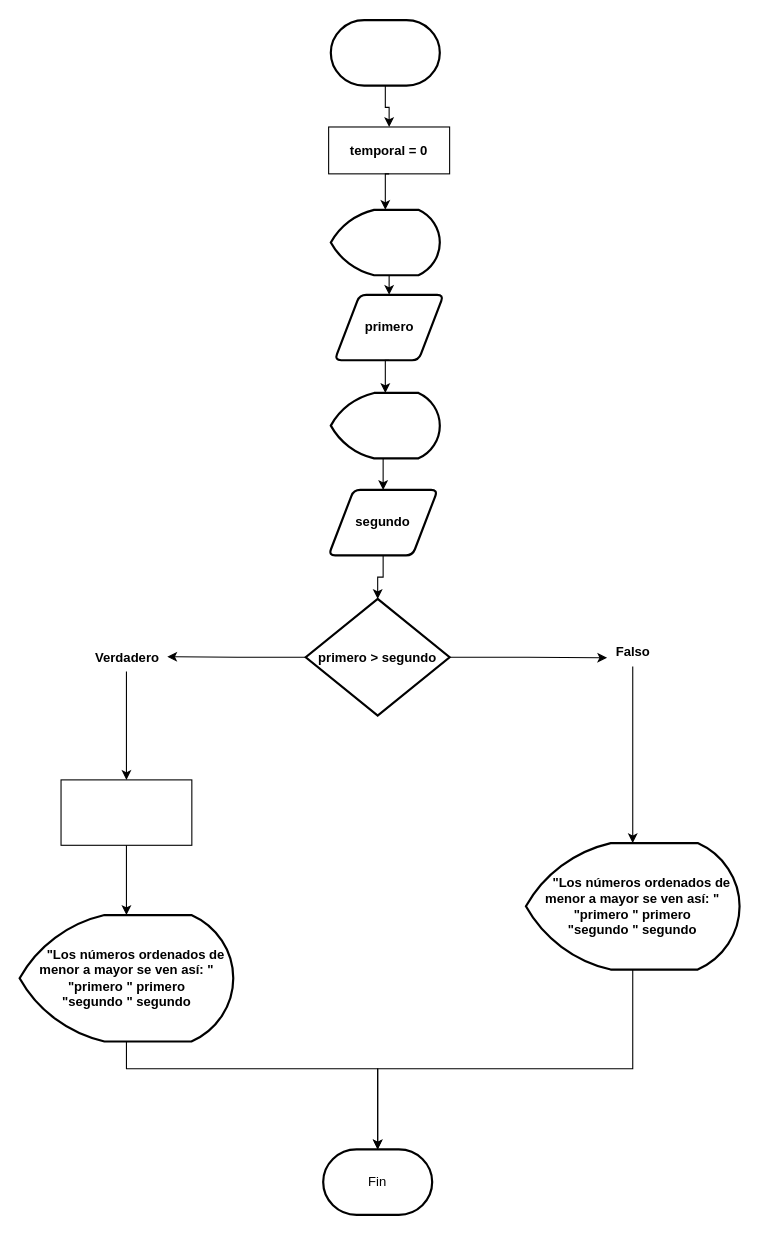
This 760x1234 diagram has some shape labels left out. The centre of each missing label's shape, as x and y in pixels:
"Ingrese otro número": (384,425)
"Ingrese un número": (384,242)
Inicio: (384,52)
temporal = primero primero = segundo segundo = temporal: (126,812)
